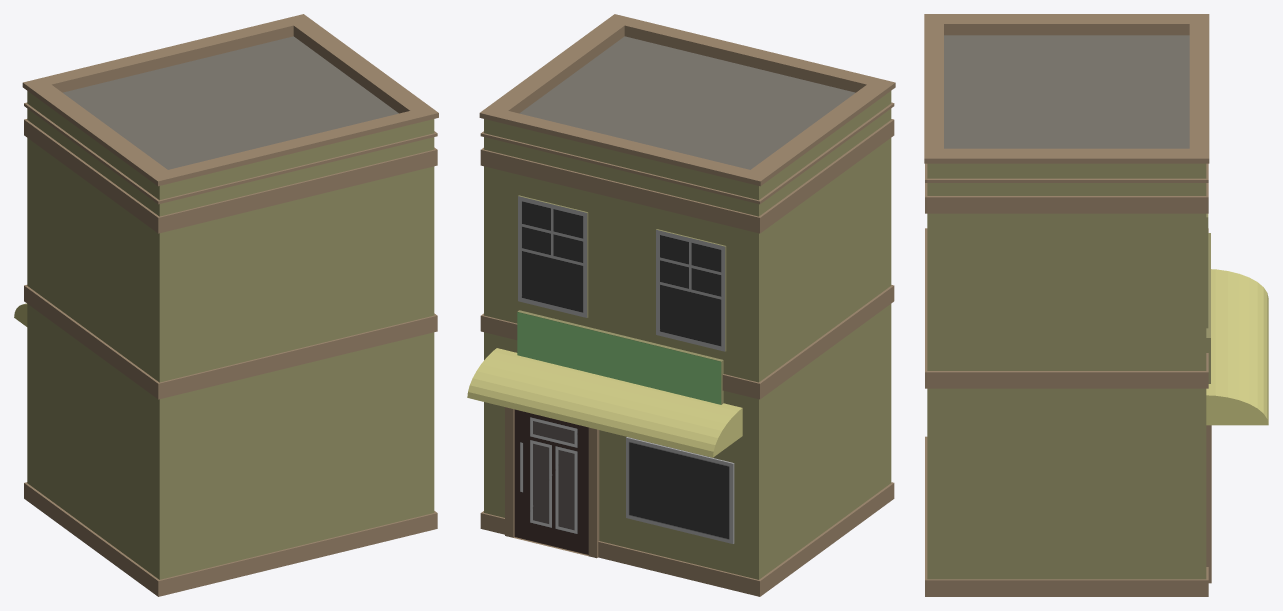
The model's file is Building_Green3.fbx.
3 views of the same model, side by side, from view 1: azimuth 30°, elevation 25°; view 2: azimuth 150°, elevation 25°; view 3: azimuth 270°, elevation 25° (orthographic). The views are drawn at different scales.
Visible parts, largest first — view 1: Building_Green3; view 2: Building_Green3; view 3: Building_Green3.
Boxes of the visible parts, x1,y1,x2,y2 form: Building_Green3: (14,14,438,596); Building_Green3: (467,14,895,596); Building_Green3: (924,14,1268,596).
Bounding box in the file's own units: 22.07 × 31.23 × 22.22.
1 material, 1 textured.
